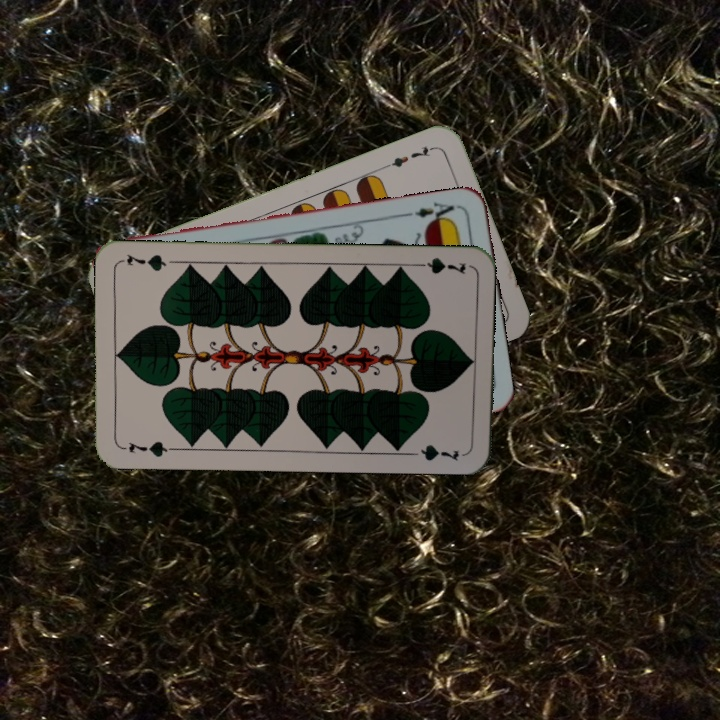E7: (381, 142, 438, 171)
EA: (402, 198, 461, 227)
G7: (117, 437, 176, 460), (410, 254, 468, 277)
